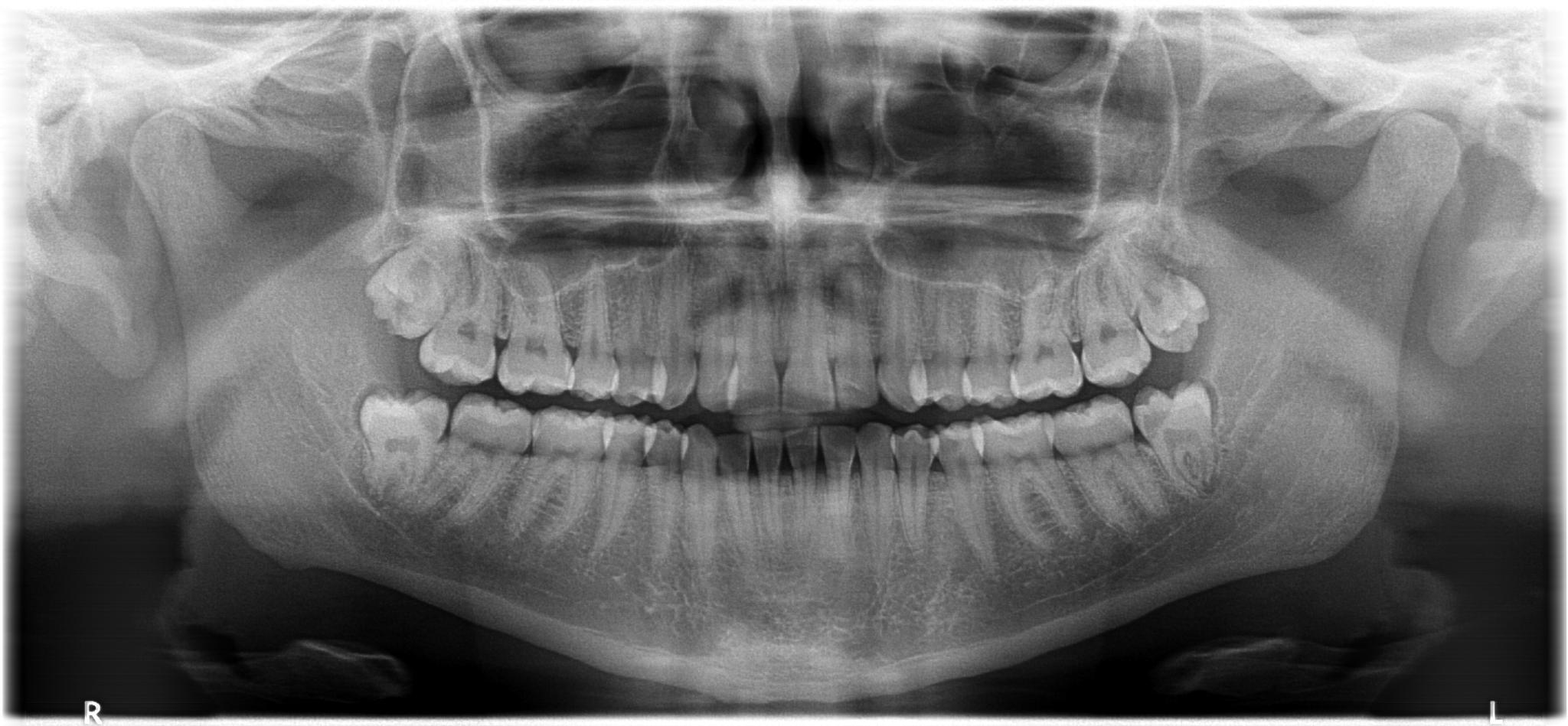Premolars: (533, 243, 1568, 648), (610, 224, 1568, 612), (535, 134, 1568, 489), (505, 141, 1508, 499), (551, 128, 1568, 452), (206, 249, 657, 675), (236, 140, 660, 468), (201, 108, 564, 373)
